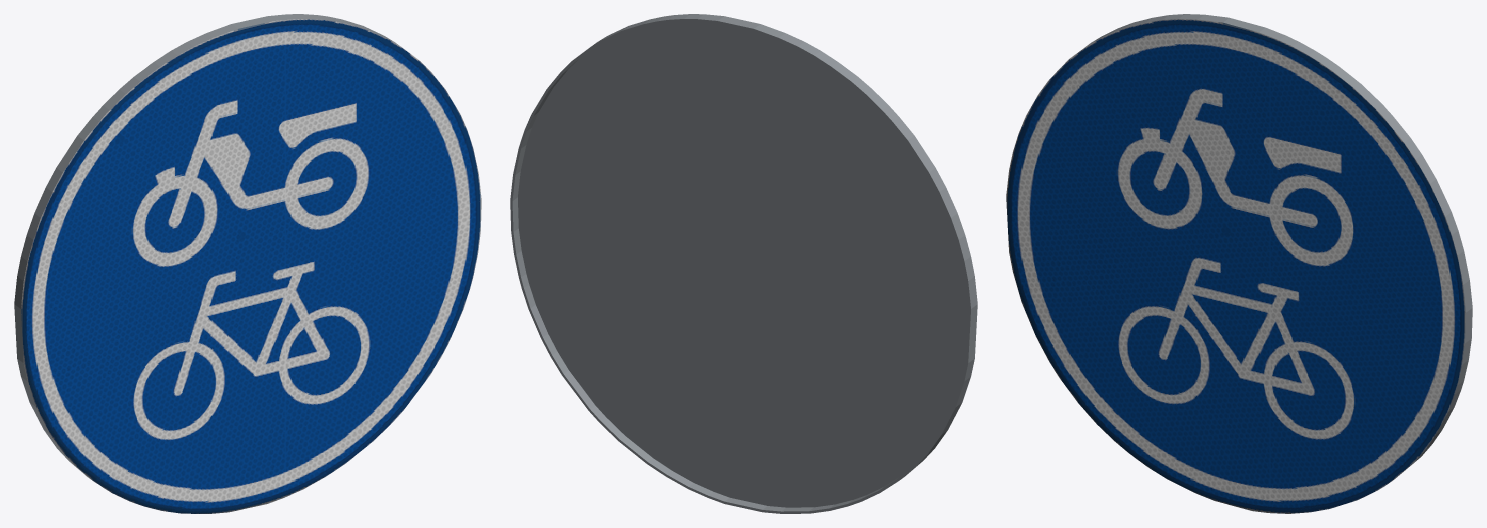
The picture shows the model from 3 angles, left to right: view 1: azimuth 30°, elevation 25°; view 2: azimuth 150°, elevation 25°; view 3: azimuth 330°, elevation 25°; orthographic projection.
Parts seen in each view (by area): view 1: cat_2b84ad2c22953a41; view 2: cat_2b84ad2c22953a41; view 3: cat_2b84ad2c22953a41.
Boxes of the visible parts, x1=… form: cat_2b84ad2c22953a41: x1=14, y1=14, x2=481, y2=513; cat_2b84ad2c22953a41: x1=510, y1=14, x2=977, y2=513; cat_2b84ad2c22953a41: x1=1006, y1=14, x2=1472, y2=513.
Bounding box in the file's own units: 0.6 × 0.015 × 0.6.
Materials: 2 (1 with a texture image).
